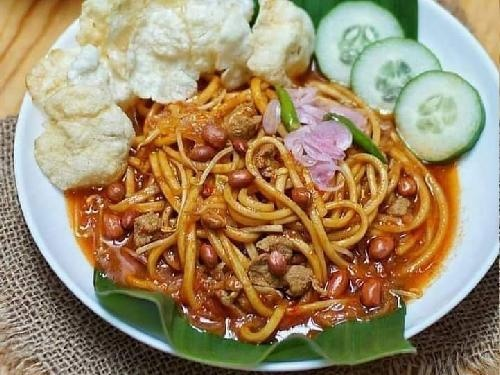mie_aceh: (128, 84, 422, 336)
